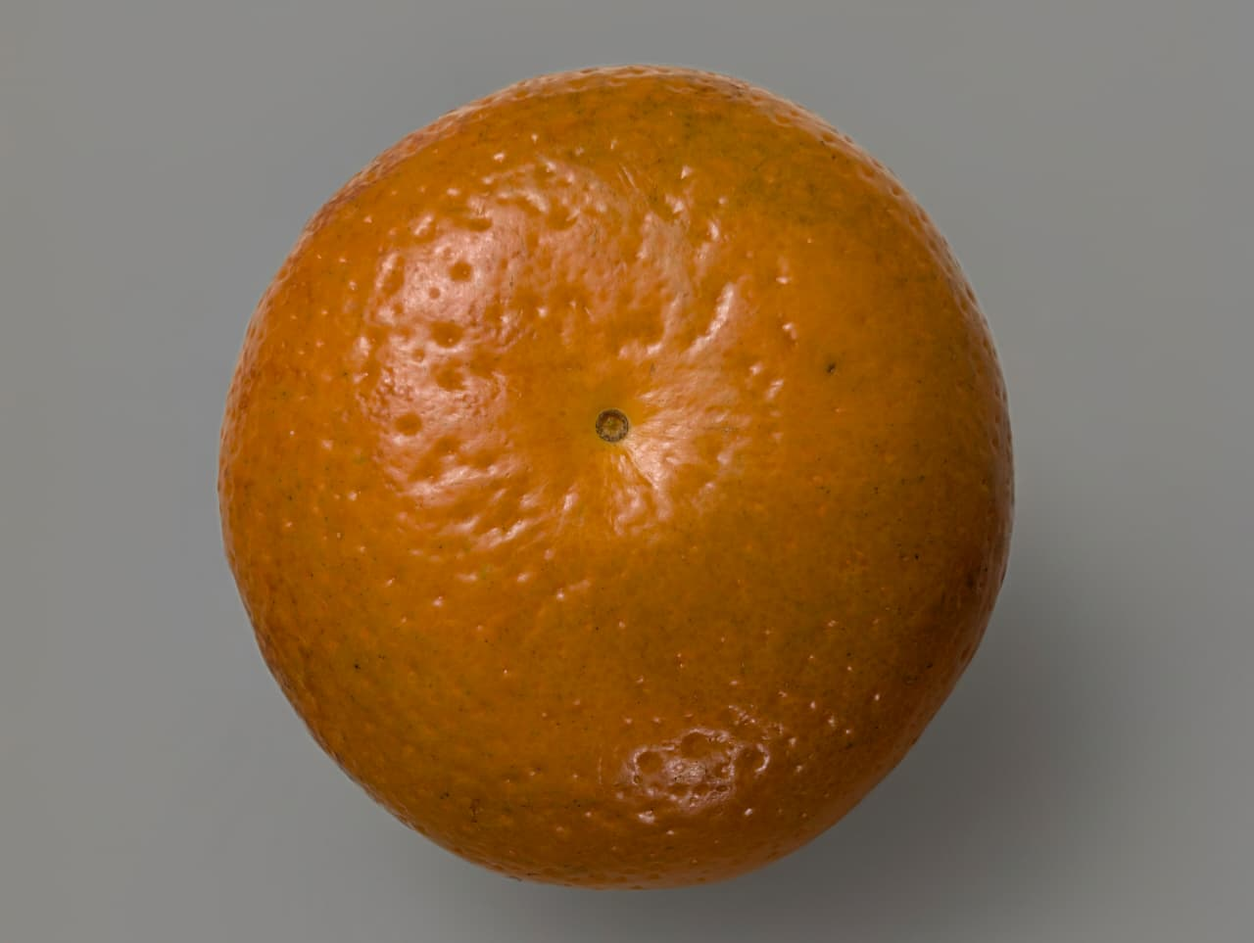orange: (57, 158, 1135, 792)
